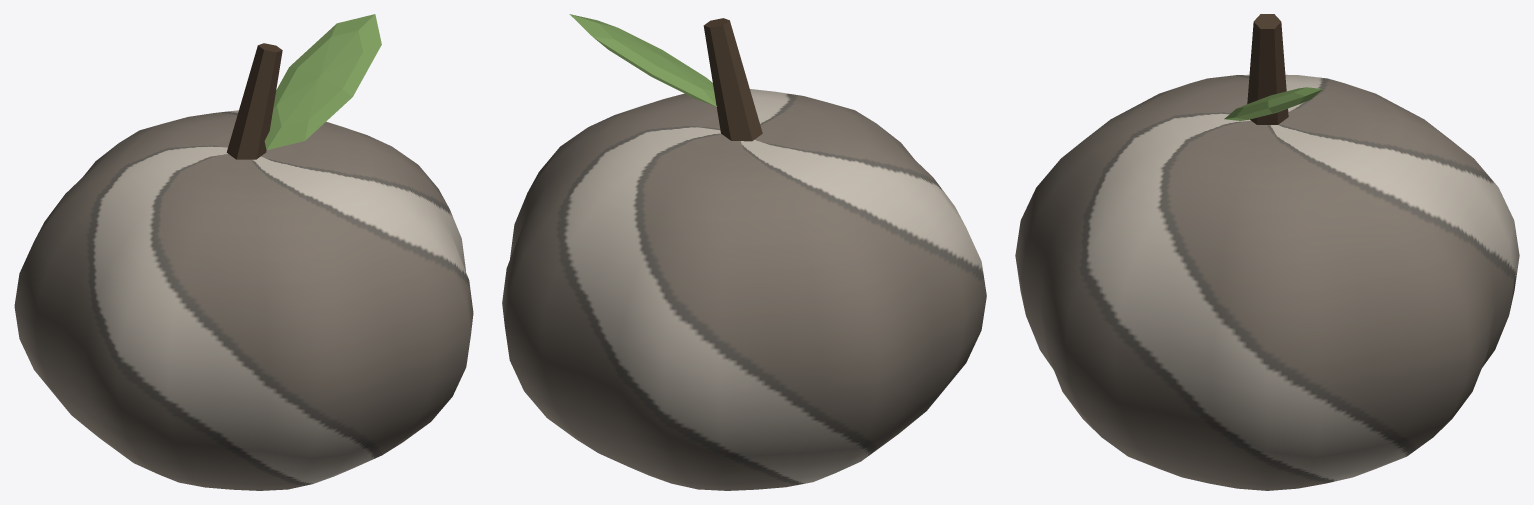
File: Fruit_Pebble.fbx
3 views of the same model, side by side, from view 1: azimuth 30°, elevation 25°; view 2: azimuth 150°, elevation 25°; view 3: azimuth 270°, elevation 25° (orthographic). The views are drawn at different scales.
Visible parts, largest first — view 1: Fruit_Pebble; view 2: Fruit_Pebble; view 3: Fruit_Pebble.
Boxes of the visible parts, x1,y1,x2,y2 form: Fruit_Pebble: [14, 14, 473, 490]; Fruit_Pebble: [502, 14, 986, 490]; Fruit_Pebble: [1015, 14, 1519, 490].
Size of the model in its own units: 1.62 by 1.63 by 1.64.
Materials: 1 (1 with a texture image).
